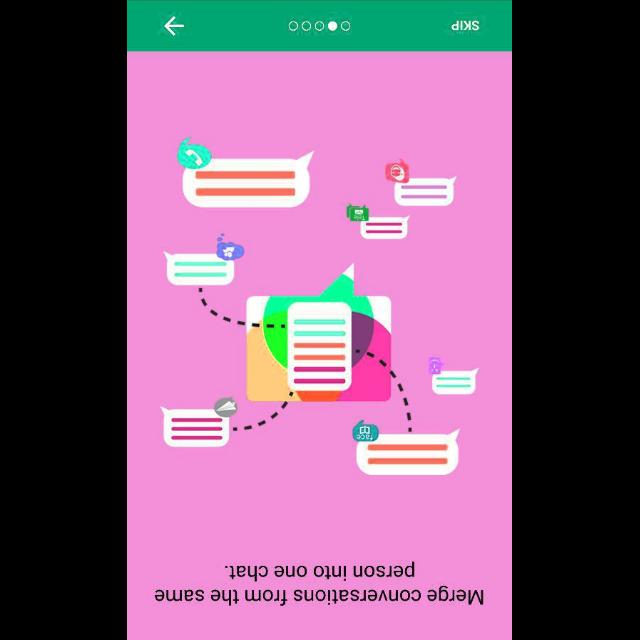icon: (164, 16, 184, 36)
image: (160, 137, 480, 475)
pageindicator: (288, 20, 352, 32)
text: (155, 560, 483, 606), (452, 20, 480, 30)
